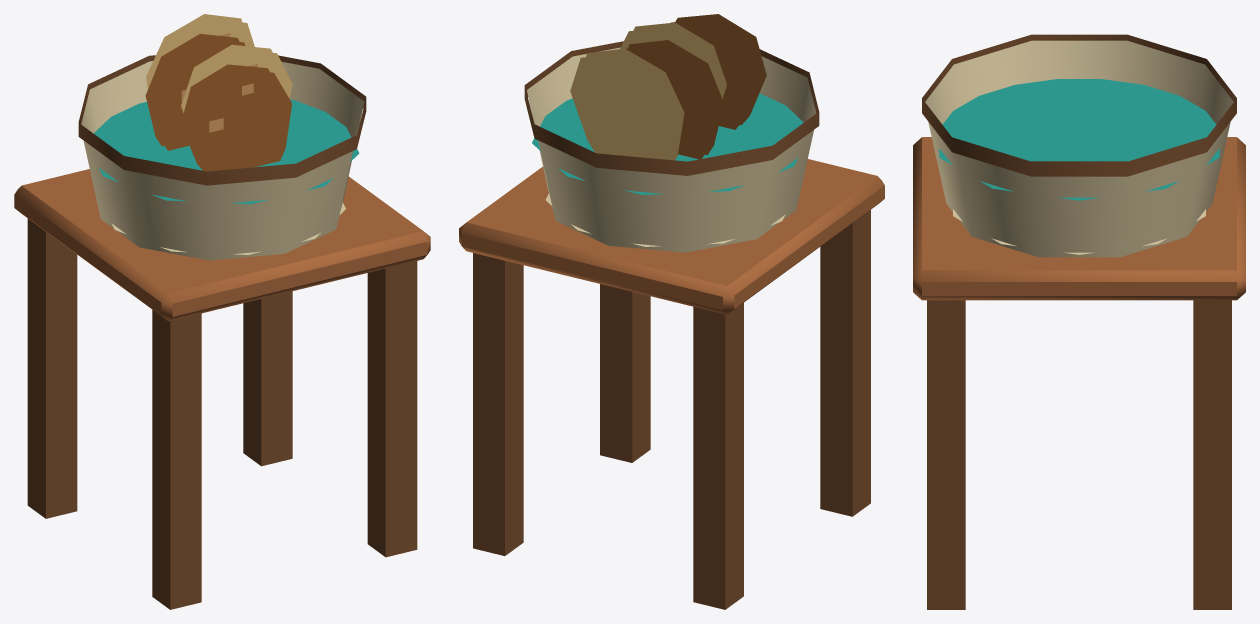
The model's file is prop_naan_basket.glb.
3 views of the same model, side by side, from view 1: azimuth 30°, elevation 25°; view 2: azimuth 150°, elevation 25°; view 3: azimuth 270°, elevation 25° (orthographic). The views are drawn at different scales.
Parts seen in each view (by area): view 1: prop_naan_basket; view 2: prop_naan_basket; view 3: prop_naan_basket.
Part boxes in pixels (<box>): prop_naan_basket: <box>14,14,430,609</box>; prop_naan_basket: <box>459,14,884,609</box>; prop_naan_basket: <box>913,34,1245,609</box>.
Size of the model in its own units: 0.3 by 0.515 by 0.3.
Materials: 1 (1 with a texture image).
